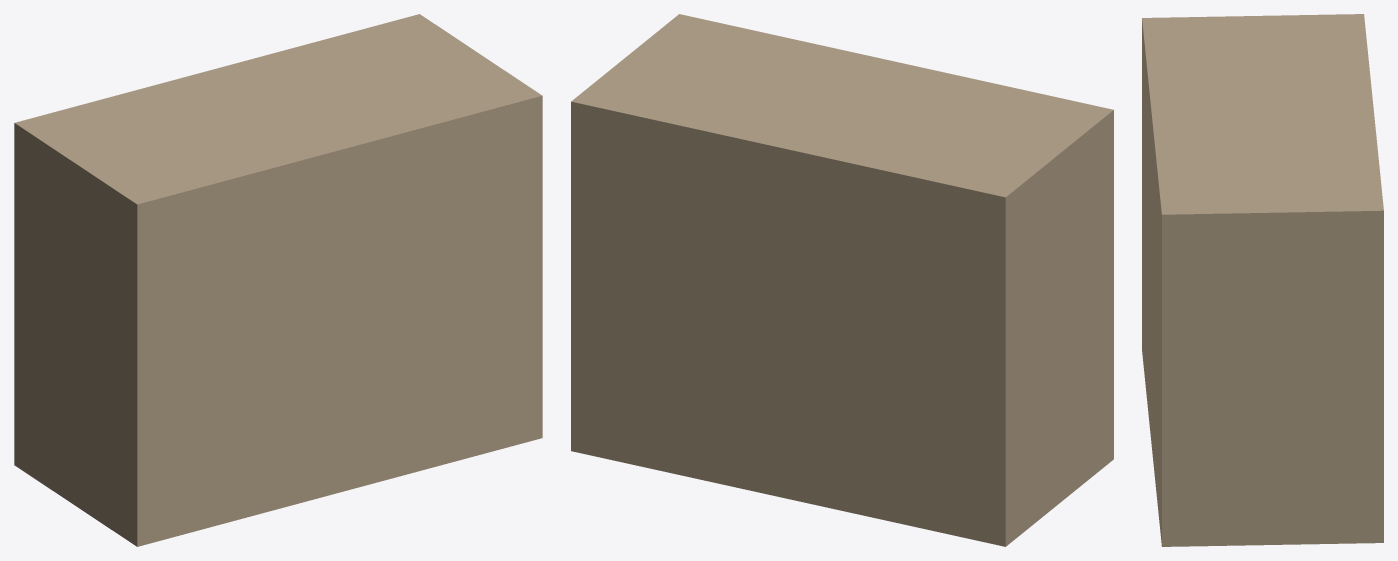
File: bld_164496032.dae
The picture shows the model from 3 angles, left to right: view 1: azimuth 30°, elevation 25°; view 2: azimuth 150°, elevation 25°; view 3: azimuth 270°, elevation 25°; orthographic projection. The views are drawn at different scales.
Parts seen in each view (by area): view 1: bld_164496032; view 2: bld_164496032; view 3: bld_164496032.
Boxes of the visible parts, x1,y1,x2,y2 form: bld_164496032: [14, 14, 542, 546]; bld_164496032: [571, 14, 1113, 546]; bld_164496032: [1142, 14, 1383, 546].
Bounding box in the file's own units: 10.37 × 5.28 × 8.
